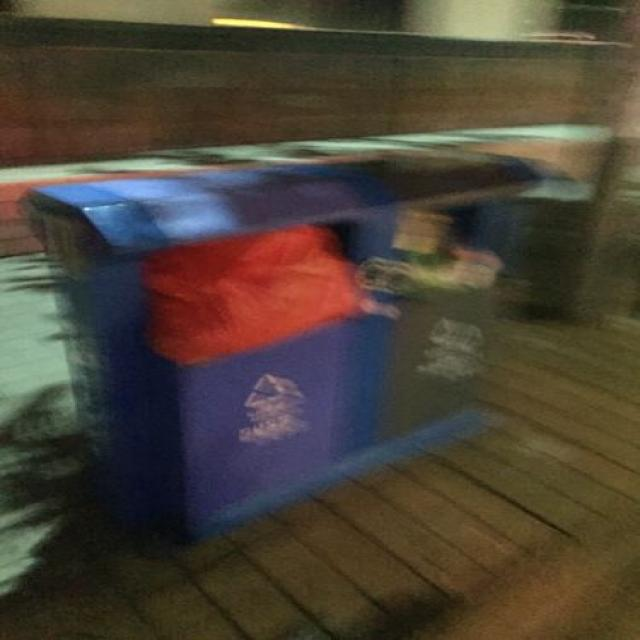overflow: (25, 145, 536, 540)
